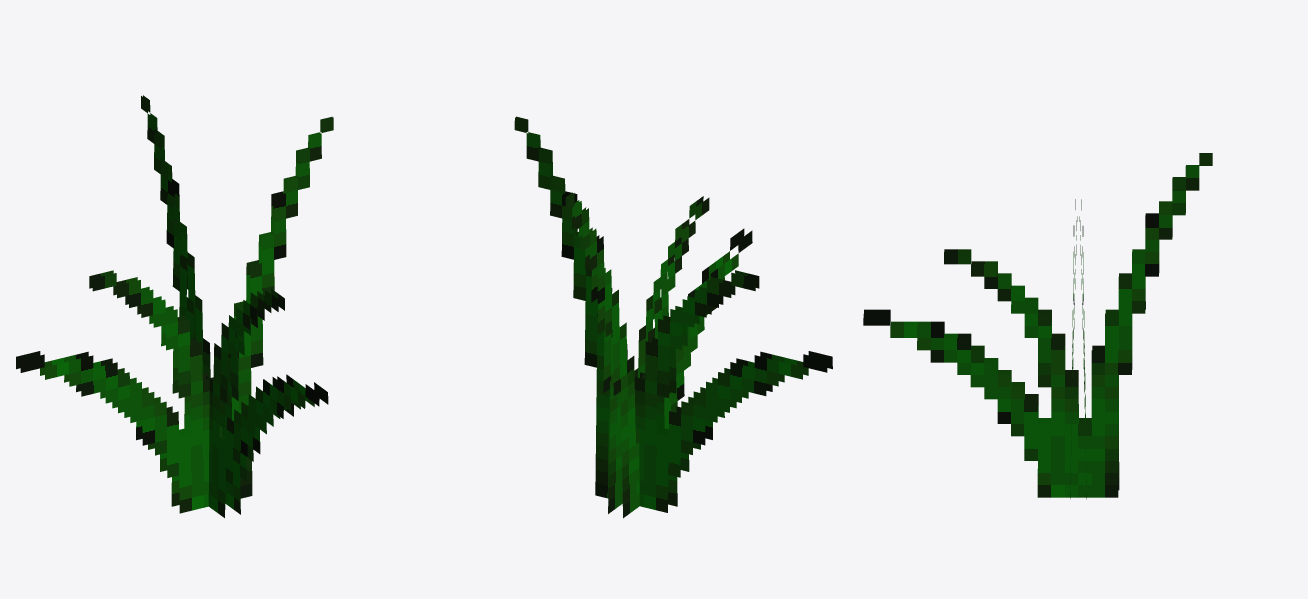
The model's file is grass06_spring.glb.
The picture shows the model from 3 angles, left to right: view 1: azimuth 30°, elevation 25°; view 2: azimuth 150°, elevation 25°; view 3: azimuth 270°, elevation 25°; orthographic projection. The views are drawn at different scales.
Visible parts, largest first — view 1: grass06; view 2: grass06; view 3: grass06.
Boxes of the visible parts, x1,y1,x2,y2 form: grass06: (16,95,333,517); grass06: (514,116,832,518); grass06: (863,153,1212,499).
Bounding box in the file's own units: 0.4008 × 0.4 × 0.4008.
Materials: 1 (1 with a texture image).
